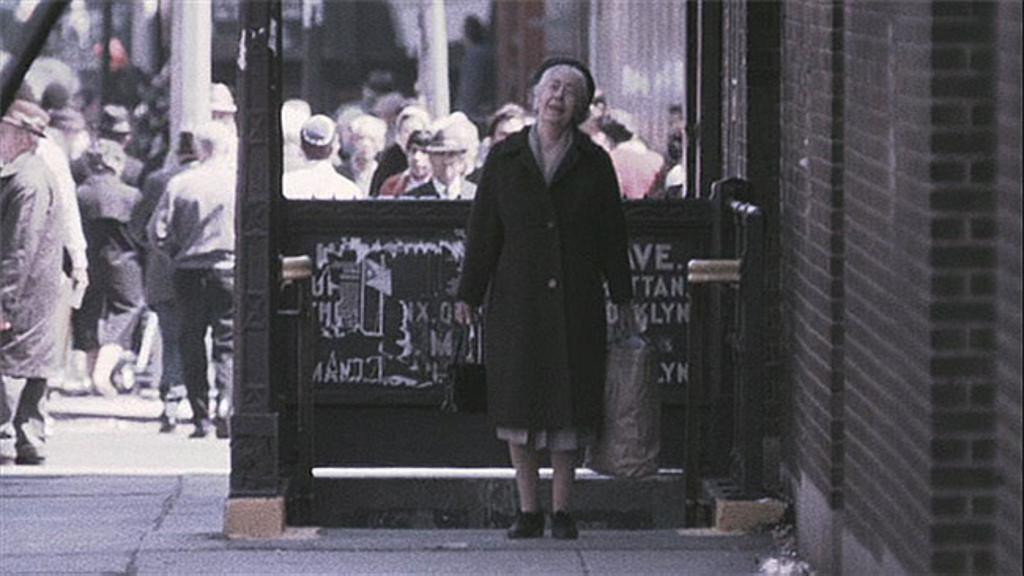face: (540, 70, 582, 121), (432, 152, 464, 185), (497, 122, 525, 159), (1, 119, 23, 157), (409, 143, 432, 177), (140, 126, 161, 160), (354, 132, 379, 160), (400, 122, 424, 149), (89, 154, 112, 179), (110, 38, 127, 62), (210, 108, 228, 130), (95, 45, 102, 54)
